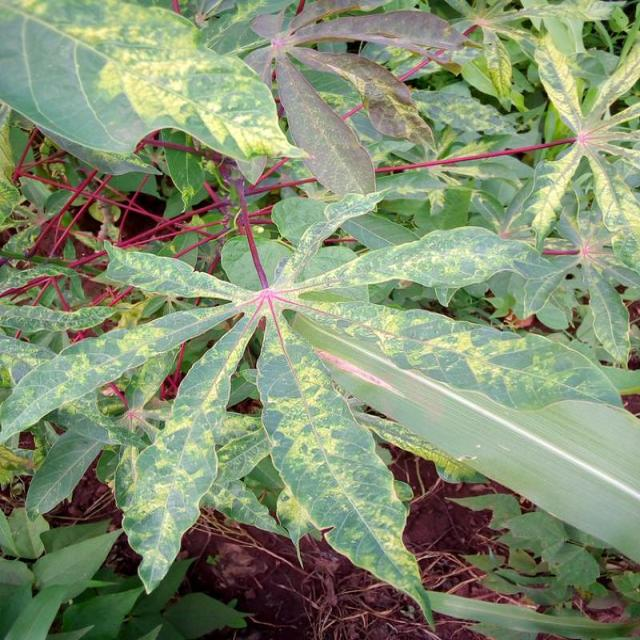cassava leaf: (0, 2, 638, 632), (282, 298, 640, 565), (0, 0, 308, 182)
